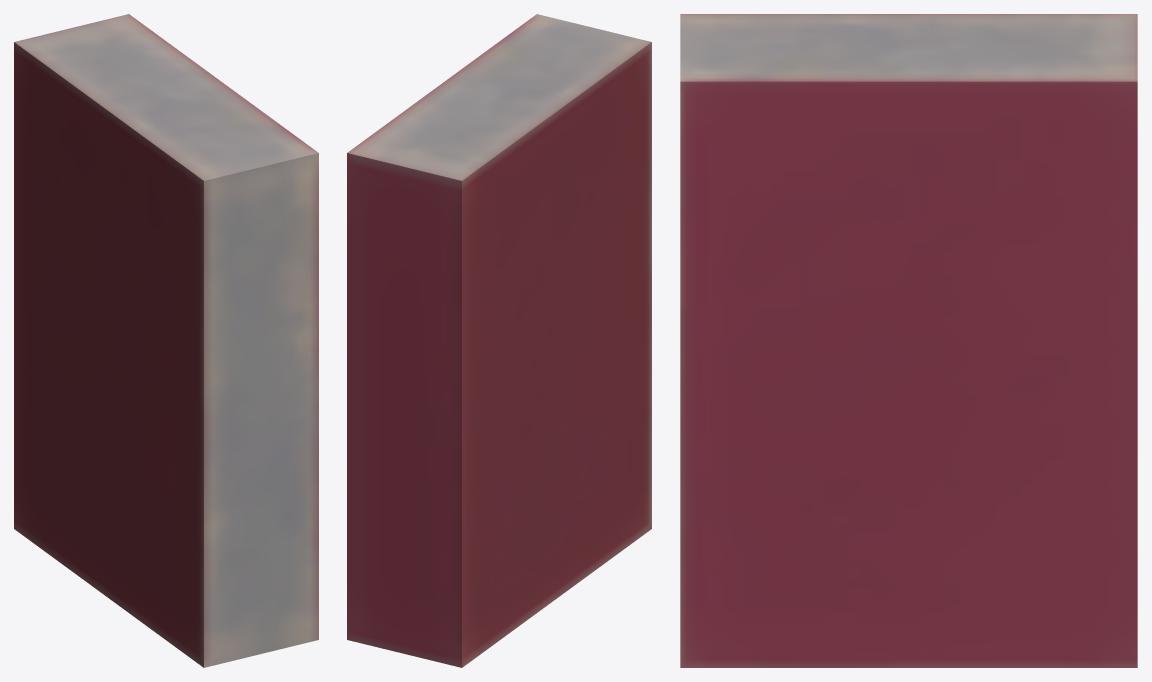
Rendered from Pfb_Indoors_Books__22.fbx.
3 renders of one model, left to right at view 1: azimuth 30°, elevation 25°; view 2: azimuth 150°, elevation 25°; view 3: azimuth 270°, elevation 25°, orthographic. The views are drawn at different scales.
Parts seen in each view (by area): view 1: Mat_Indoors_Books_01; view 2: Mat_Indoors_Books_01; view 3: Mat_Indoors_Books_01.
Boxes of the visible parts, x1,y1,x2,y2 form: Mat_Indoors_Books_01: (14,14,318,667); Mat_Indoors_Books_01: (347,14,651,667); Mat_Indoors_Books_01: (680,14,1137,667).
Size of the model in its own units: 0.0828 by 0.3351 by 0.2368.
1 material, 1 textured.
